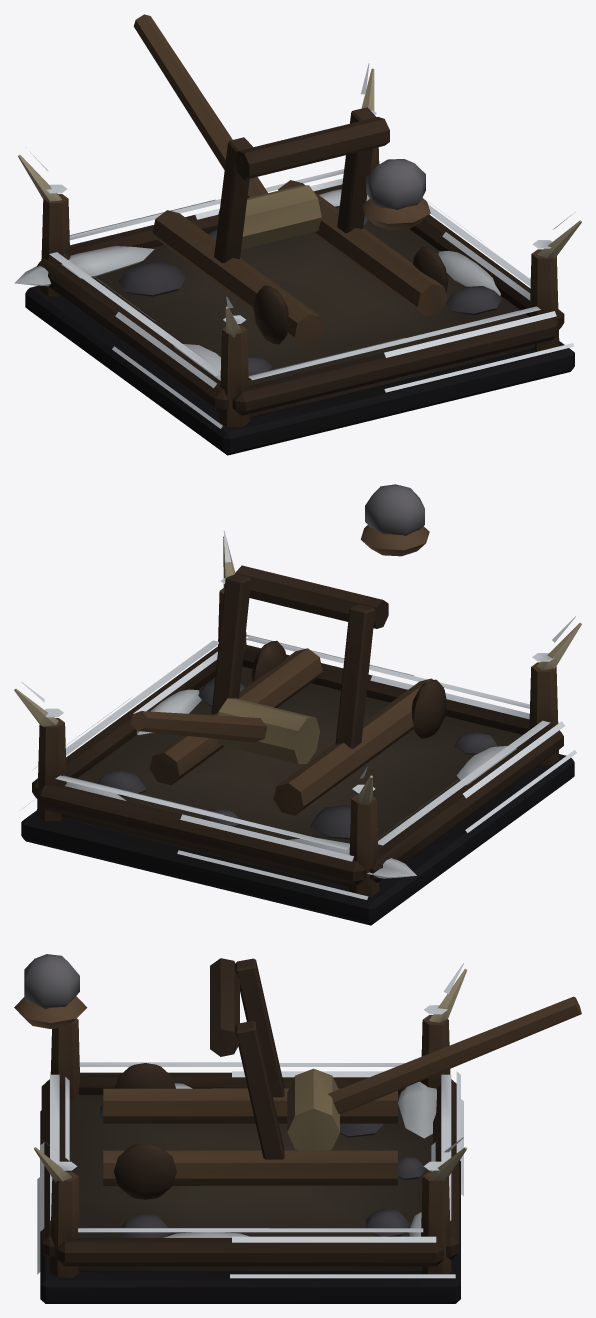
Rendered from horde-3.glb.
The picture shows the model from 3 angles, top to bottom: view 1: azimuth 30°, elevation 25°; view 2: azimuth 150°, elevation 25°; view 3: azimuth 270°, elevation 25°; orthographic projection. The views are drawn at different scales.
Visible parts, largest first — view 1: orage_3_architecture, Tourelle_peint; view 2: orage_3_architecture, Tourelle_peint; view 3: orage_3_architecture, Tourelle_peint.
Part boxes in pixels (x1,y1,x2,y2): orage_3_architecture: [14, 63, 581, 455]; Tourelle_peint: [133, 14, 448, 346]; orage_3_architecture: [14, 530, 581, 925]; Tourelle_peint: [130, 484, 447, 815]; orage_3_architecture: [34, 963, 467, 1303]; Tourelle_peint: [14, 954, 581, 1199].
Bounding box in the file's own units: 0.8655 × 0.5451 × 1.08.
